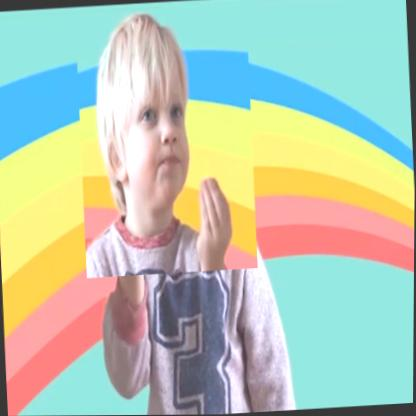Food: (73, 4, 259, 278)
